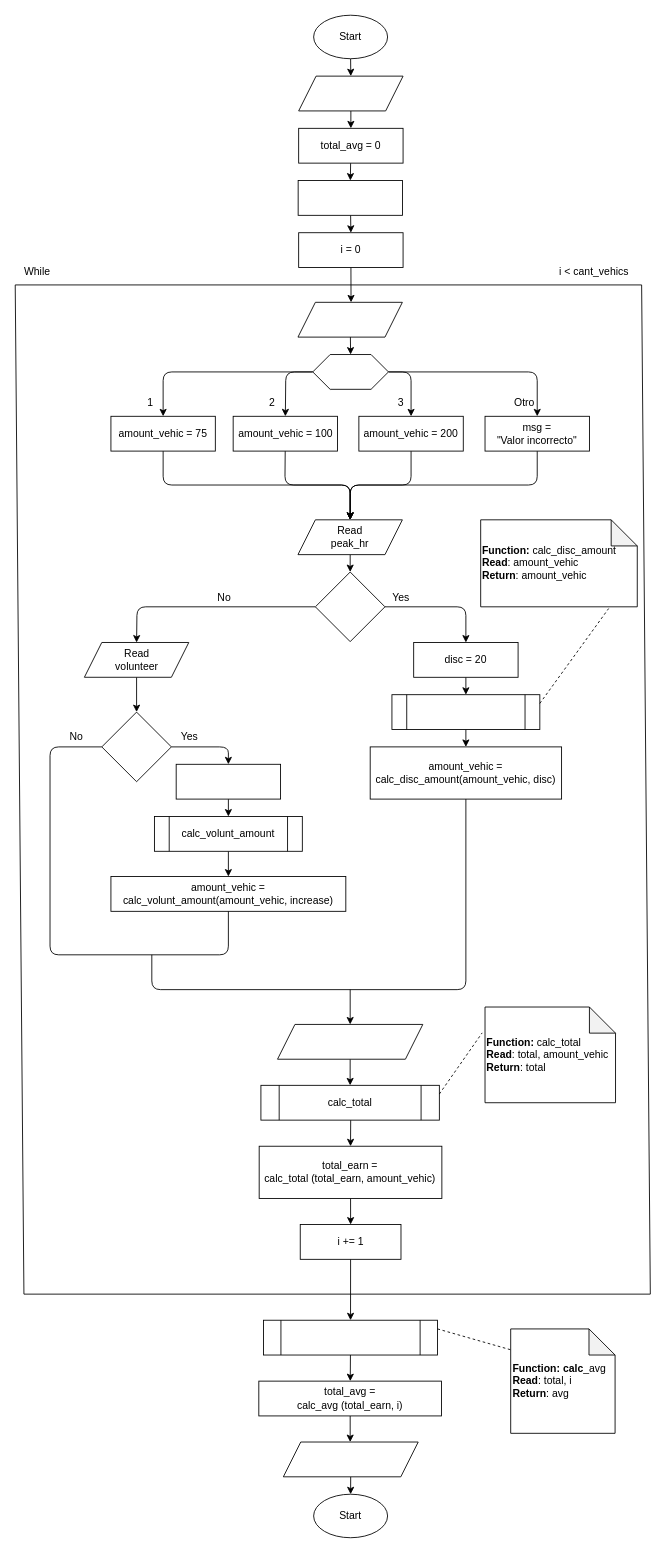
Some shapes in this 666 by 1553 pixel diagram are drawn without their labels. The shapes that lost their labels are listed below. From the top down, each one's centre as x and y in pixels, then its label:
(350,93): Read cant_vehics
(350,197): total_earn = 0
(349,319): Read vehic_line
(350,371): vehic_line
(350,606): peak_hr == 1
(465,711): calc_disc_amount
(136,746): volunteer == 1
(228,781): increase = 15
(350,1041): Print total_vehic
(350,1337): calc_avg
(350,1459): Print total_earn, total_avg
